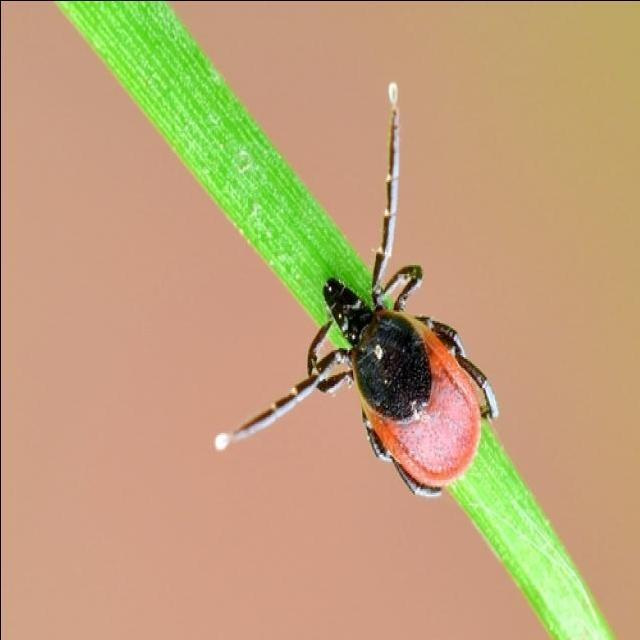Ixodes Ricinus-F: (214, 80, 500, 497)
